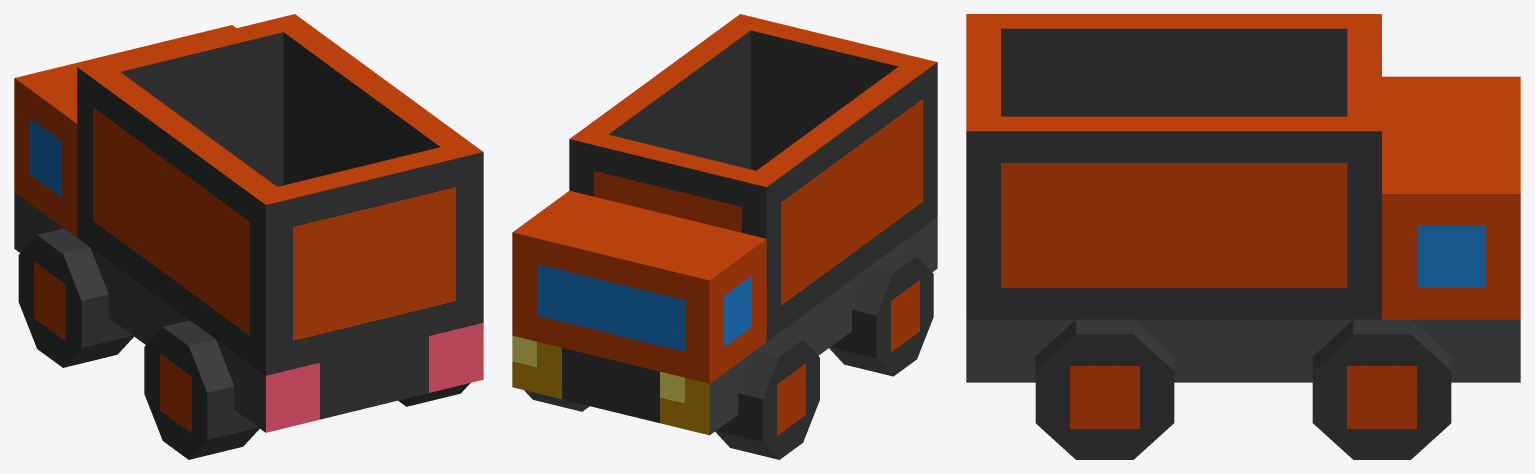
The model's file is dump.gltf.
3 renders of one model, left to right at view 1: azimuth 30°, elevation 25°; view 2: azimuth 150°, elevation 25°; view 3: azimuth 270°, elevation 25°, orthographic. The views are drawn at different scales.
Parts seen in each view (by area): view 1: cube (×6), cylinder (×3); view 2: cube (×6), cylinder (×3); view 3: cube (×6), cylinder (×2).
Part boxes in pixels (x1=…): cube (×6): x1=14, y1=14, x2=483, y2=432; cylinder (×3): x1=18, y1=228, x2=470, y2=459; cube (×6): x1=512, y1=14, x2=937, y2=435; cylinder (×3): x1=524, y1=250, x2=933, y2=459; cube (×6): x1=966, y1=14, x2=1520, y2=382; cylinder (×2): x1=1035, y1=319, x2=1451, y2=459.
Bounding box in the file's own units: 0.625 × 0.625 × 1.
1 material, 1 textured.
